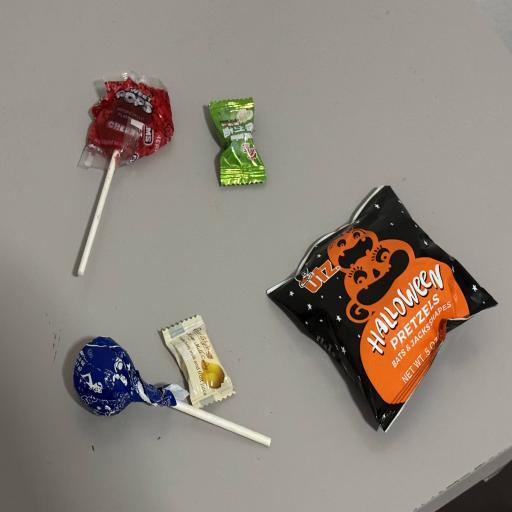chocolate: (268, 187, 496, 430), (59, 325, 291, 483), (70, 71, 174, 277), (162, 315, 235, 408), (210, 98, 265, 185)
